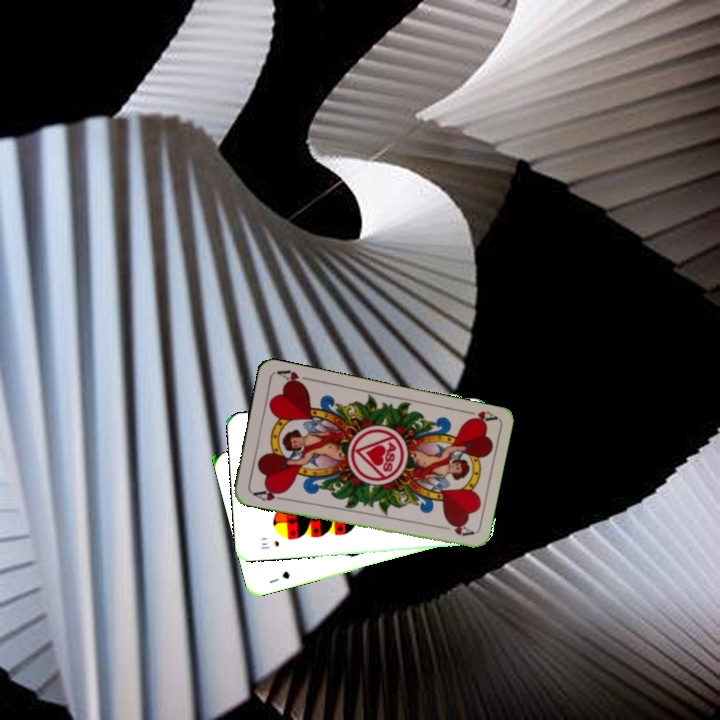GU: (265, 567, 292, 586)
HA: (457, 406, 498, 427), (249, 484, 288, 503)
S10: (257, 537, 282, 552)
